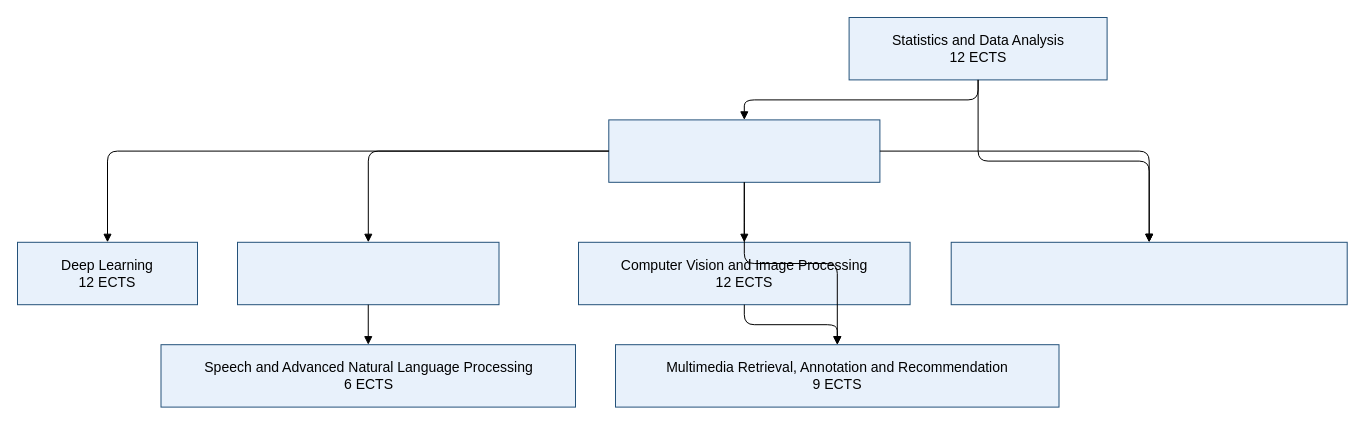
Some shapes in this 1365 by 425 pixel diagram are drawn without their labels. The shapes that lost their labels are listed below. From the top down, each one's centre as x and y in pixels, then its label:
At point (744, 150): "Machine Learning Foundations 12 ECTS".
At point (367, 273): "Natural Language Processing 12 ECTS".
At point (1148, 273): "Industrial Analytics and Mathematical Modeling 6 ECTS".
